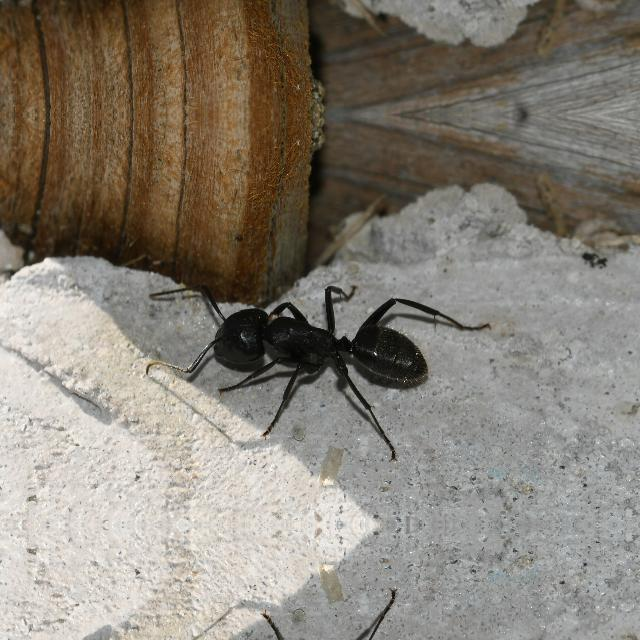Camponotus: (152, 276, 460, 434)
